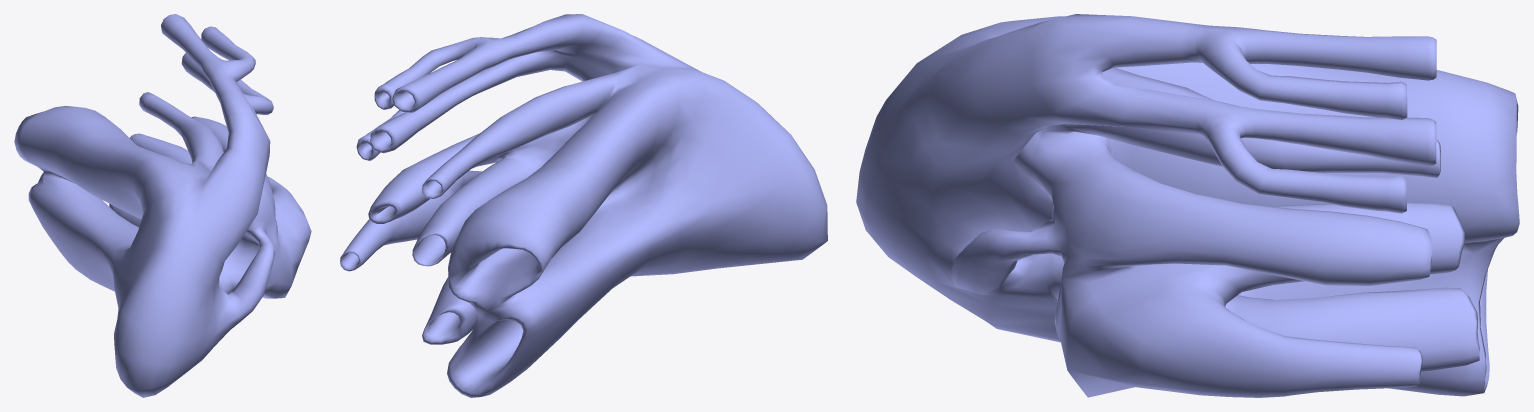
Rendered from smooth_er2.fbx.
3 views of the same model, side by side, from view 1: azimuth 30°, elevation 25°; view 2: azimuth 150°, elevation 25°; view 3: azimuth 270°, elevation 25° (orthographic). The views are drawn at different scales.
Visible parts, largest first — view 1: Smooth_Endoplasmic_reticulum_2; view 2: Smooth_Endoplasmic_reticulum_2; view 3: Smooth_Endoplasmic_reticulum_2.
Boxes of the visible parts, left/top/right/bottom form: Smooth_Endoplasmic_reticulum_2: left=14, top=14, right=311, bottom=397; Smooth_Endoplasmic_reticulum_2: left=340, top=14, right=827, bottom=397; Smooth_Endoplasmic_reticulum_2: left=856, top=14, right=1519, bottom=397.
Bounding box in the file's own units: 515 × 432 × 632.
